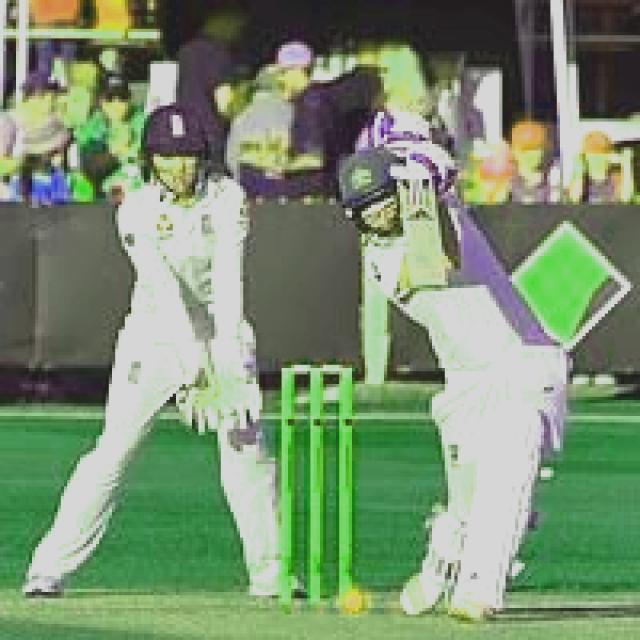bat: (391, 181, 455, 292)
toe: (408, 278, 448, 288)
